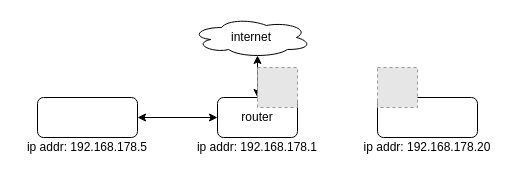
Some shapes in this 524 by 175 pixel diagram are drawn without their labels. Grey dashed boxes stand in for pictures. Here are the shapes that lost their labels. From the top down, the centre of each, then its label:
point (87, 117): BeagleBone
point (427, 117): host laptop/pc
